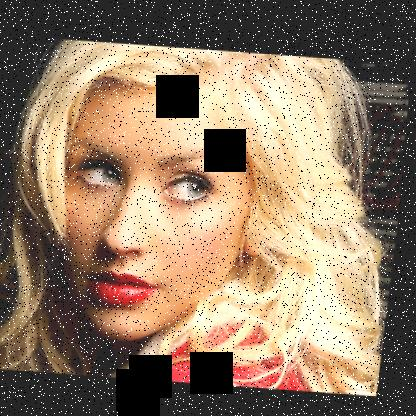Female: (48, 65, 267, 344)
